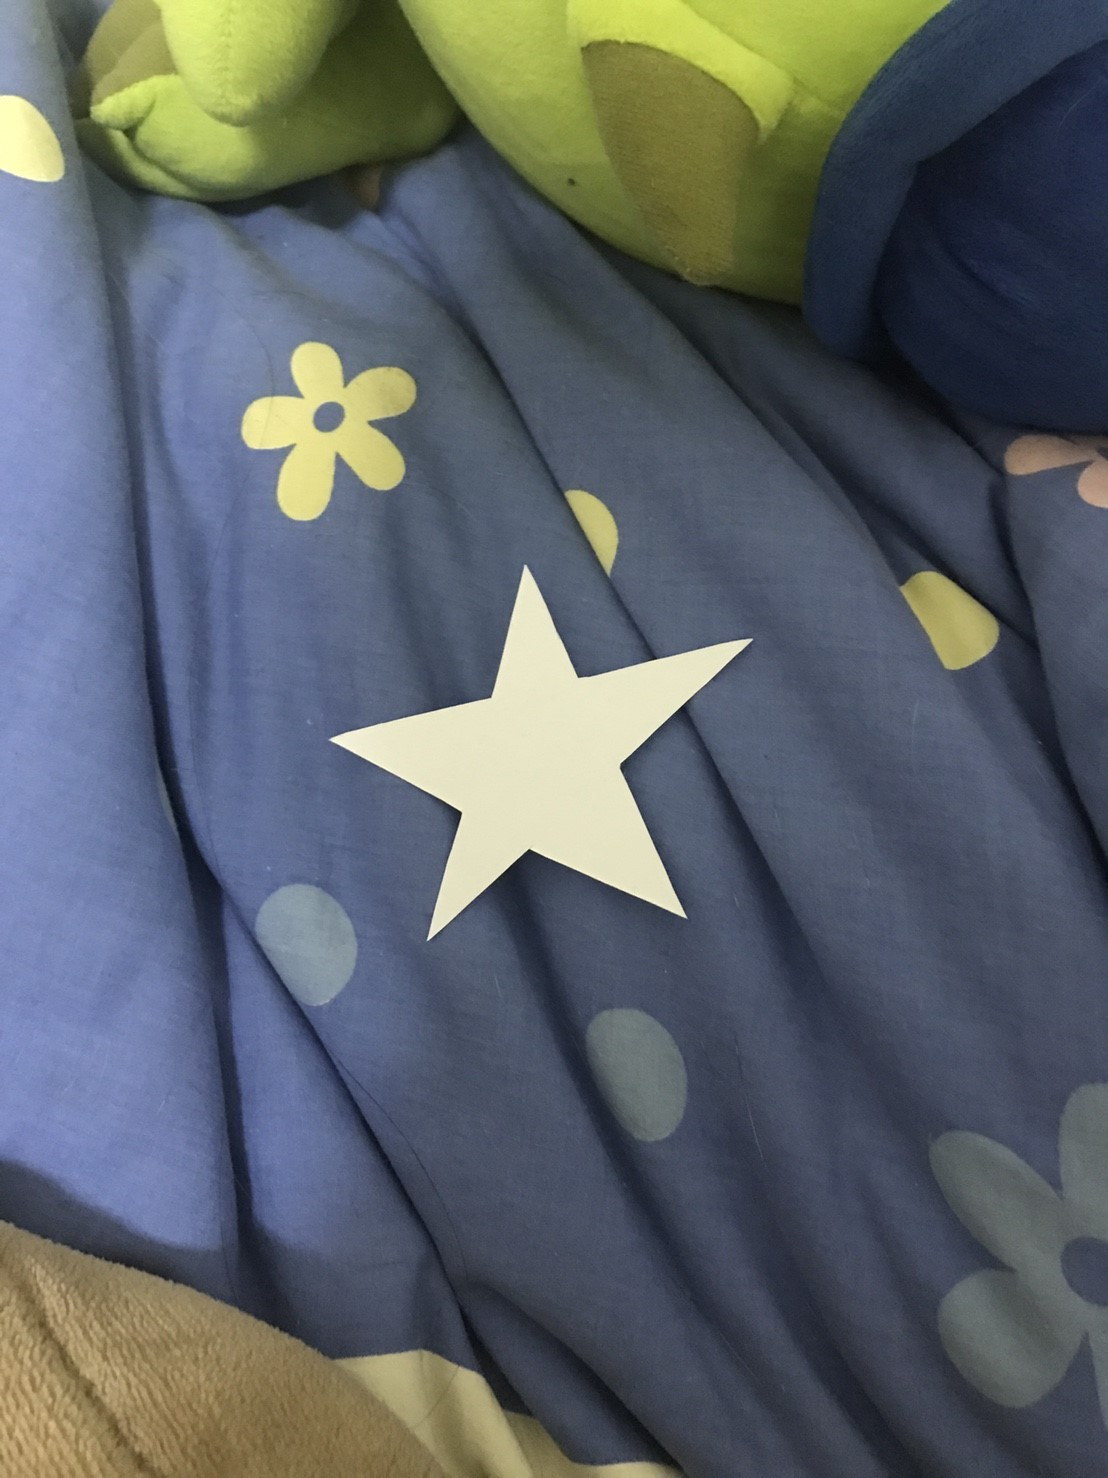star: (322, 543, 762, 941)
